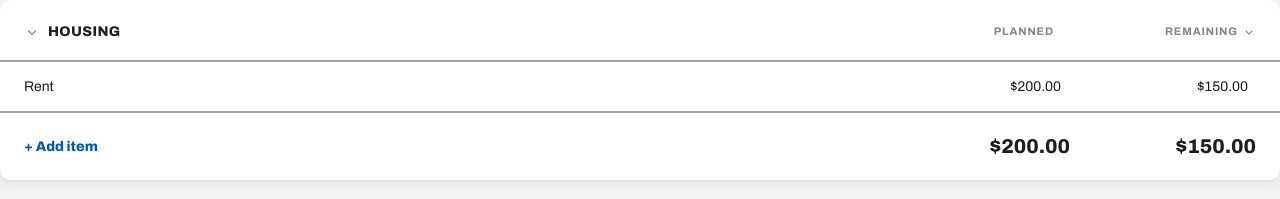
it: BudgetGroupCard collapse › replaces the line item rows and footer with a single item-count + totals summary when collapsed
This screenshot has width=1280, height=199.
Click the button named "Collapse group" at (32, 32), box [24,24,40,40]
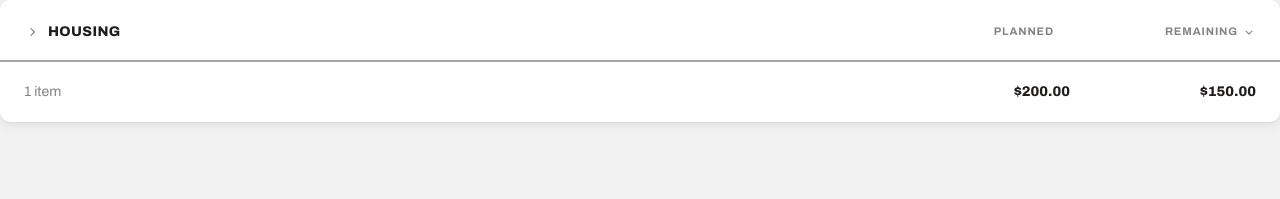
Now the text "Rent" is gone
Now the text "1 item" is shown, box [24,84,61,99]
Now the button "+ Add item" is gone
